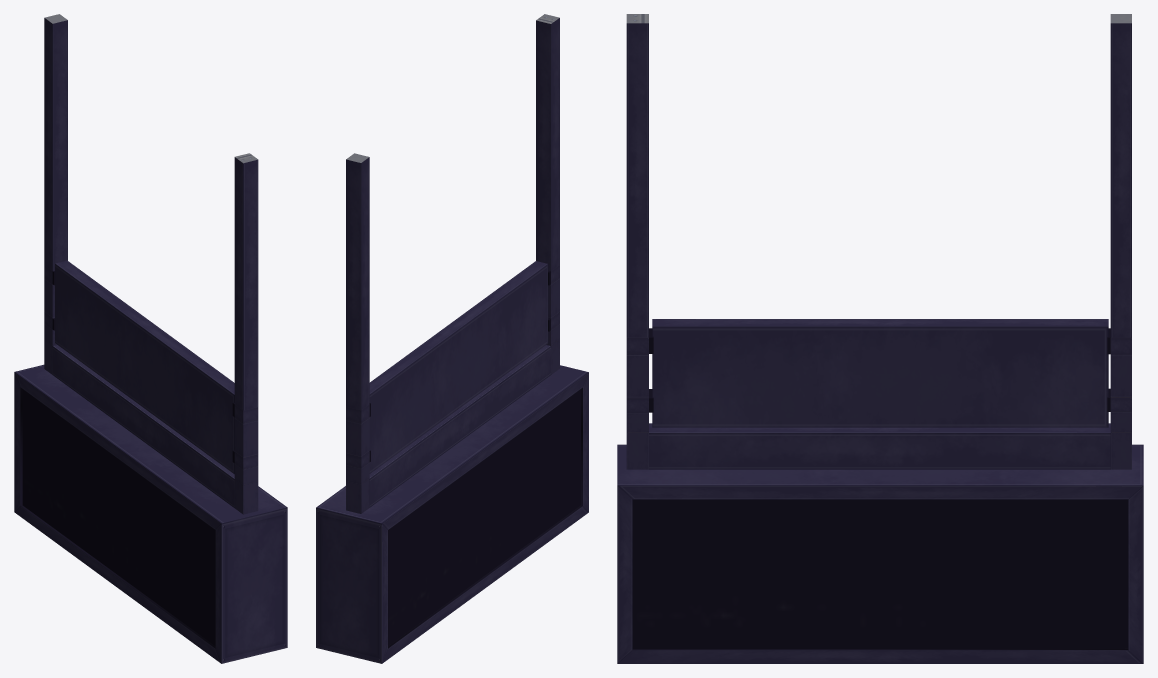
File: Display 1.fbx
3 renders of one model, left to right at view 1: azimuth 30°, elevation 25°; view 2: azimuth 150°, elevation 25°; view 3: azimuth 270°, elevation 25°, orthographic. The views are drawn at different scales.
Parts seen in each view (by area): view 1: Cube; view 2: Cube; view 3: Cube.
Boxes of the visible parts, left/top/right/bottom form: Cube: left=14, top=14, right=287, bottom=663; Cube: left=316, top=14, right=588, bottom=663; Cube: left=617, top=14, right=1143, bottom=663.
Size of the model in its own units: 49.93 by 356 by 272.
